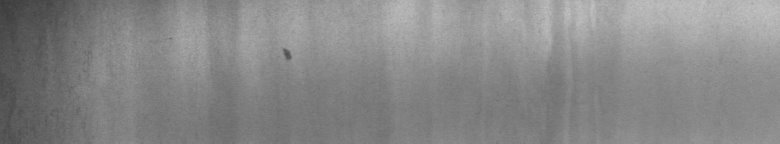fi: (280, 44, 296, 64)
